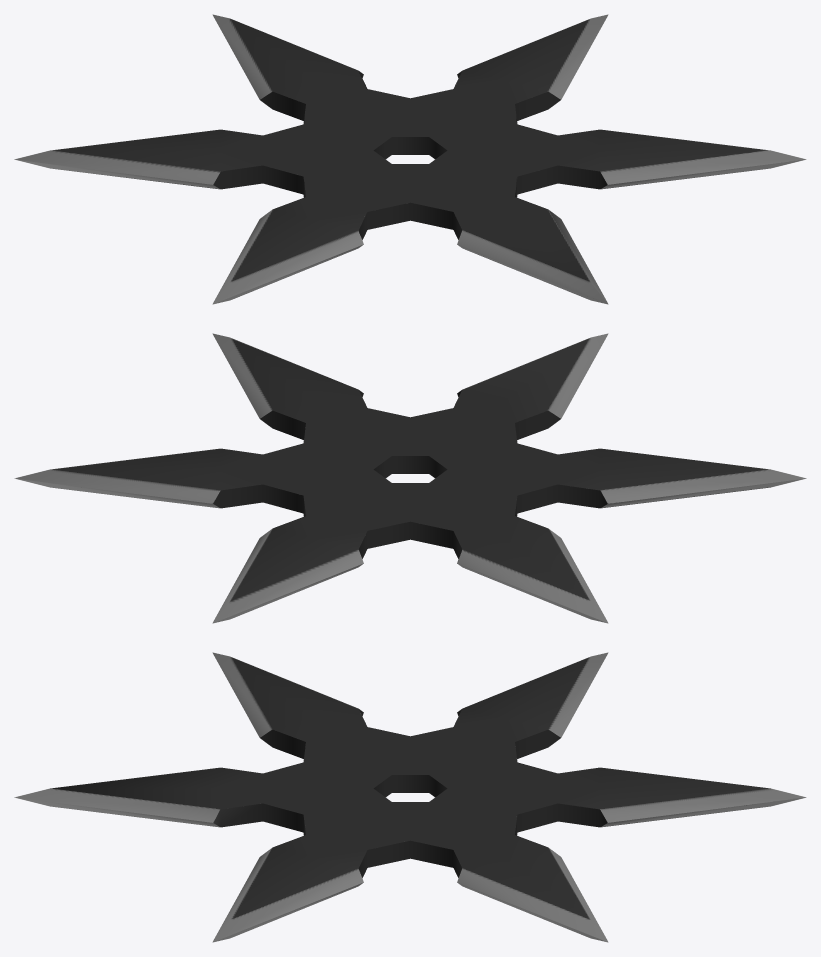
The model's file is Shuriken_star.FBX.
3 views of the same model, one above another, from view 1: azimuth 30°, elevation 25°; view 2: azimuth 150°, elevation 25°; view 3: azimuth 270°, elevation 25° (orthographic).
Parts seen in each view (by area): view 1: Shuriken4; view 2: Shuriken4; view 3: Shuriken4.
Boxes of the visible parts, x1=… form: Shuriken4: x1=14, y1=14, x2=806, y2=304; Shuriken4: x1=14, y1=333, x2=806, y2=623; Shuriken4: x1=14, y1=652, x2=806, y2=942.
Size of the model in its own units: 13.07 by 0.3778 by 15.1.
Materials: 1 (1 with a texture image).
